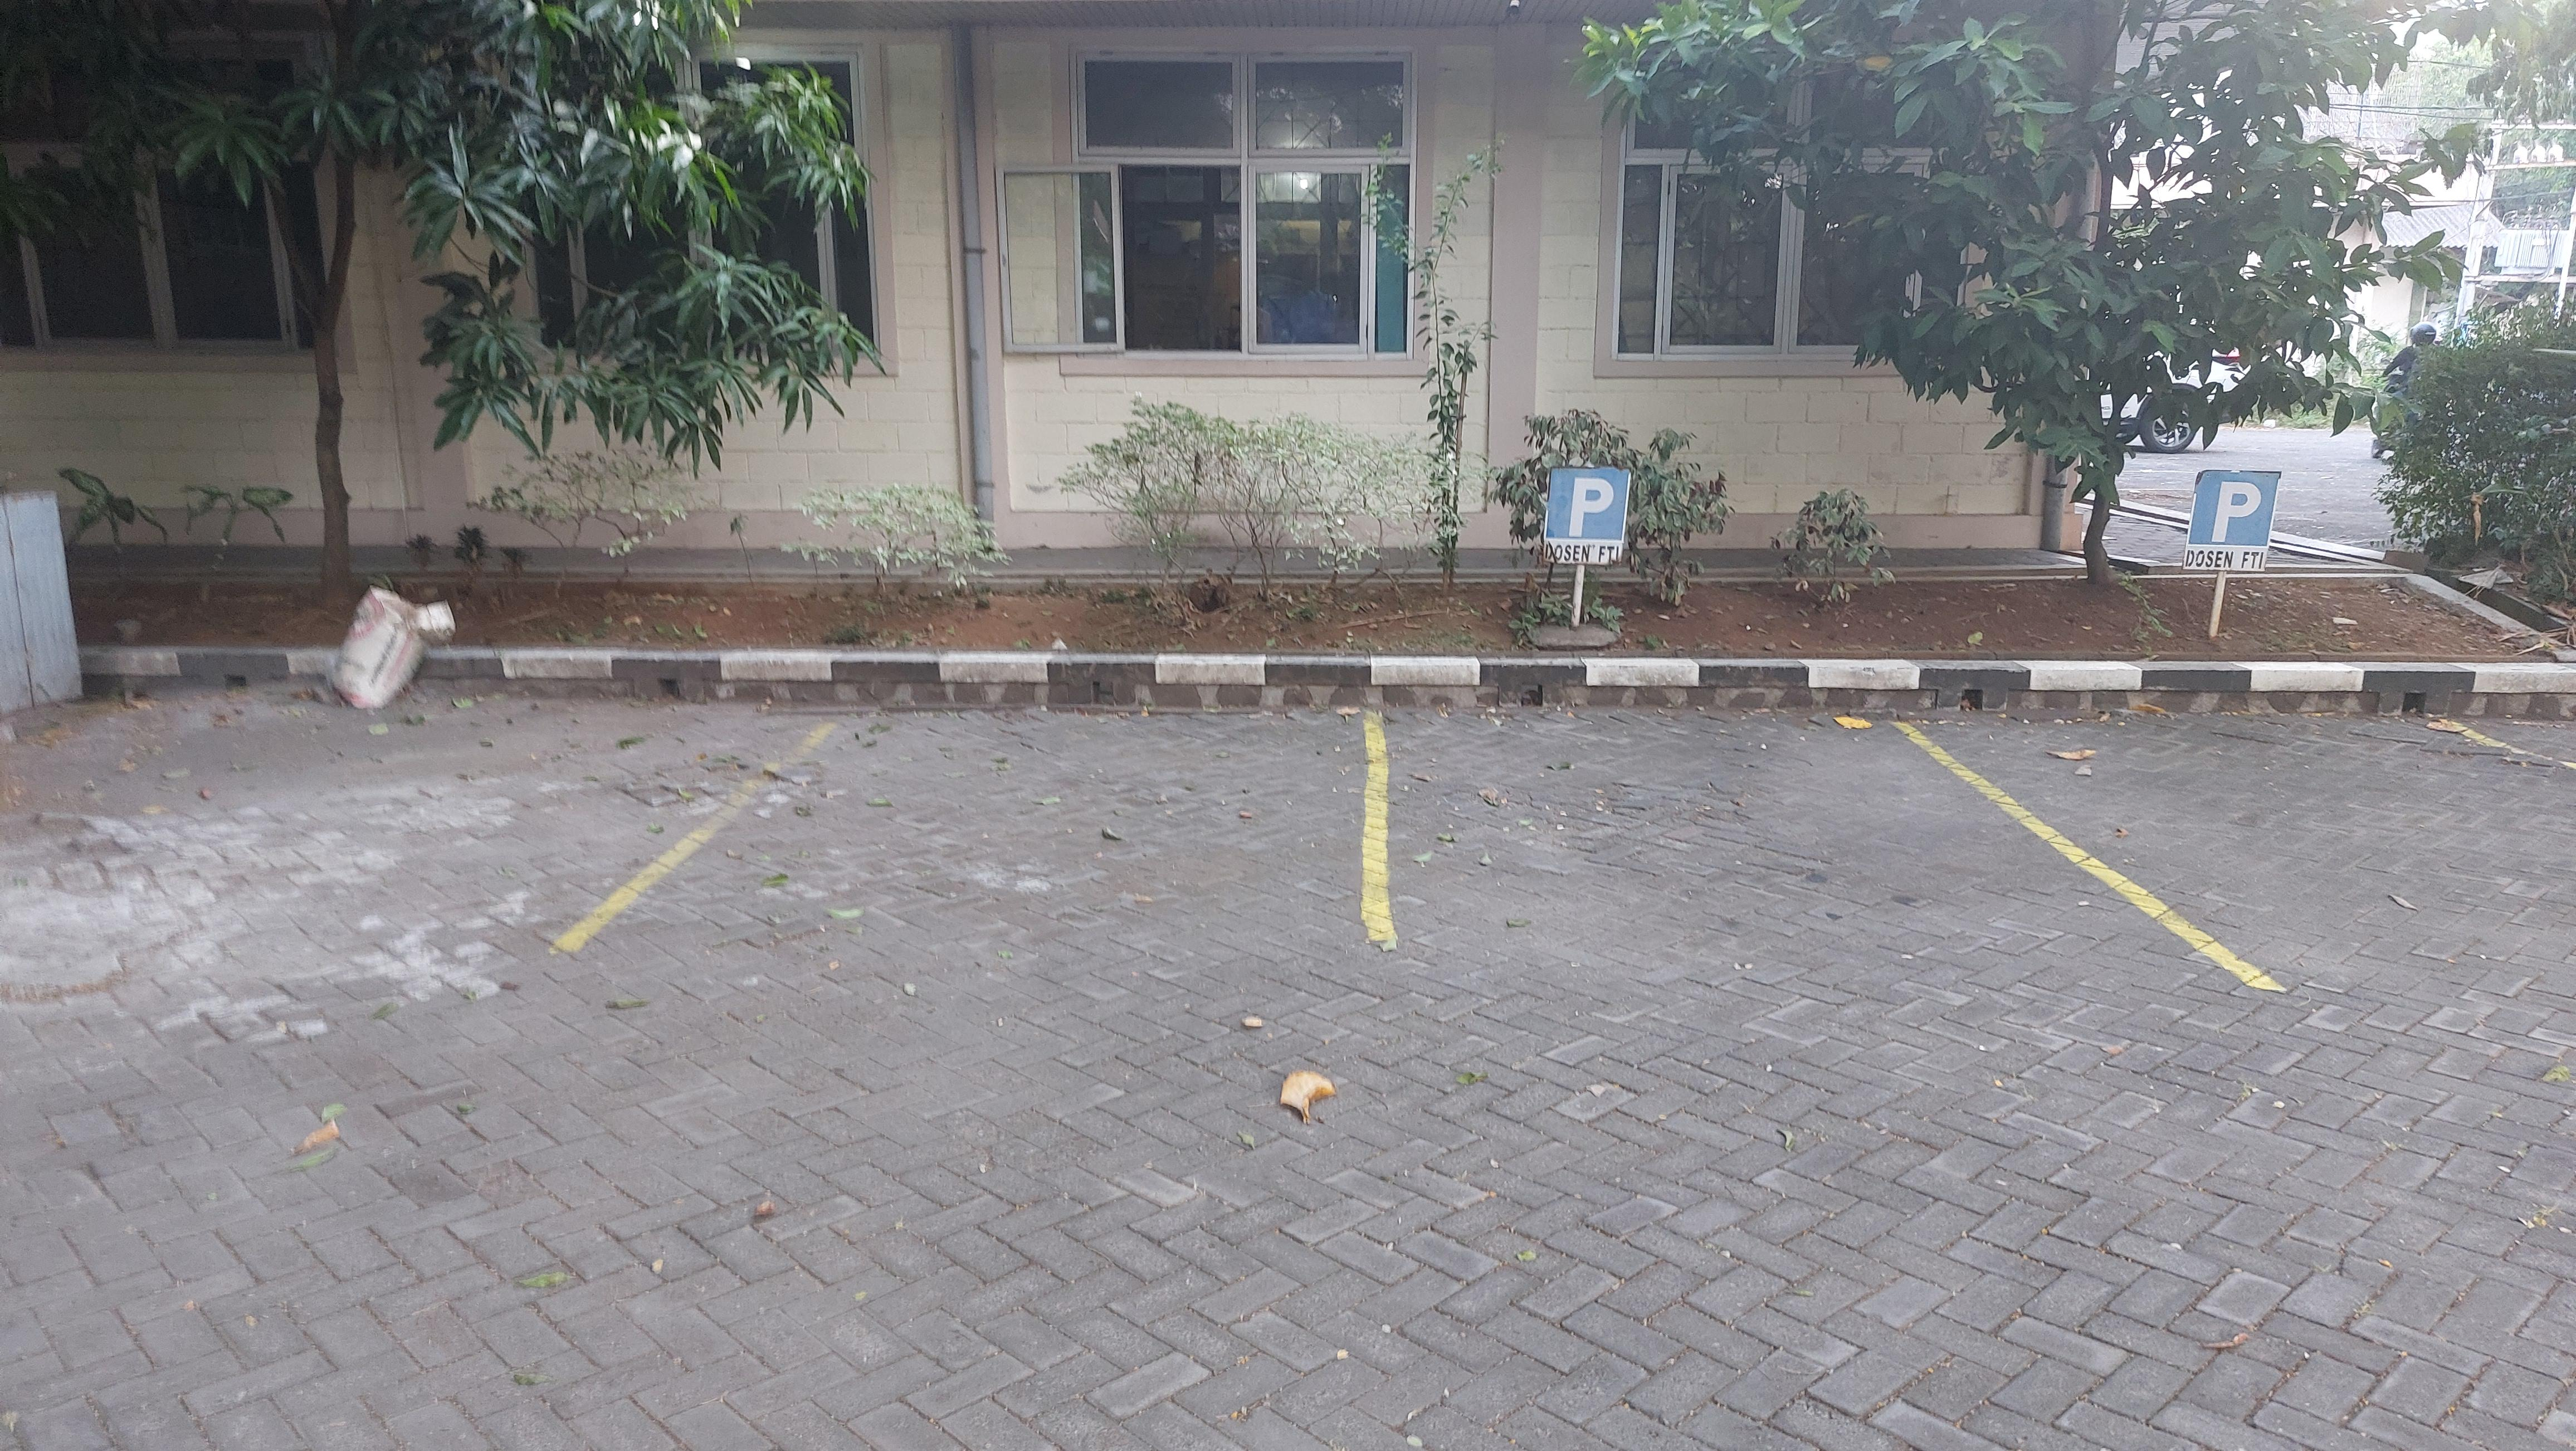empty: (1371, 711, 2284, 992), (552, 705, 1382, 948), (1897, 715, 2575, 993)
